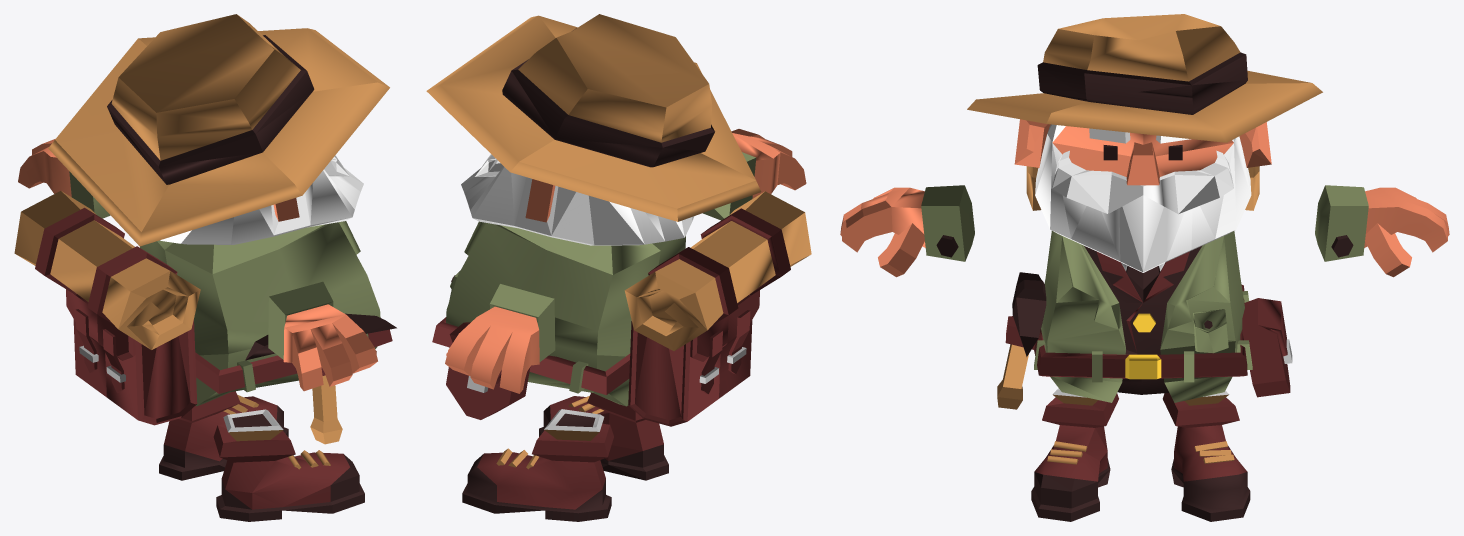
Rendered from playerBase.FBX.
The picture shows the model from 3 angles, left to right: view 1: azimuth 30°, elevation 25°; view 2: azimuth 150°, elevation 25°; view 3: azimuth 270°, elevation 25°; orthographic projection.
Parts seen in each view (by area): view 1: Player; view 2: Player; view 3: Player.
Part boxes in pixels (x1,y1,x2,y2): Player: (14, 14, 396, 521); Player: (426, 14, 811, 521); Player: (840, 14, 1449, 521).
Size of the model in its own units: 183 by 266 by 322.
